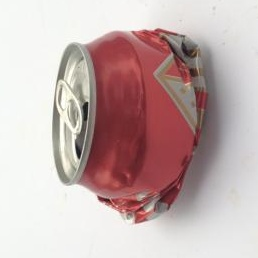Metal: (54, 28, 200, 228)
